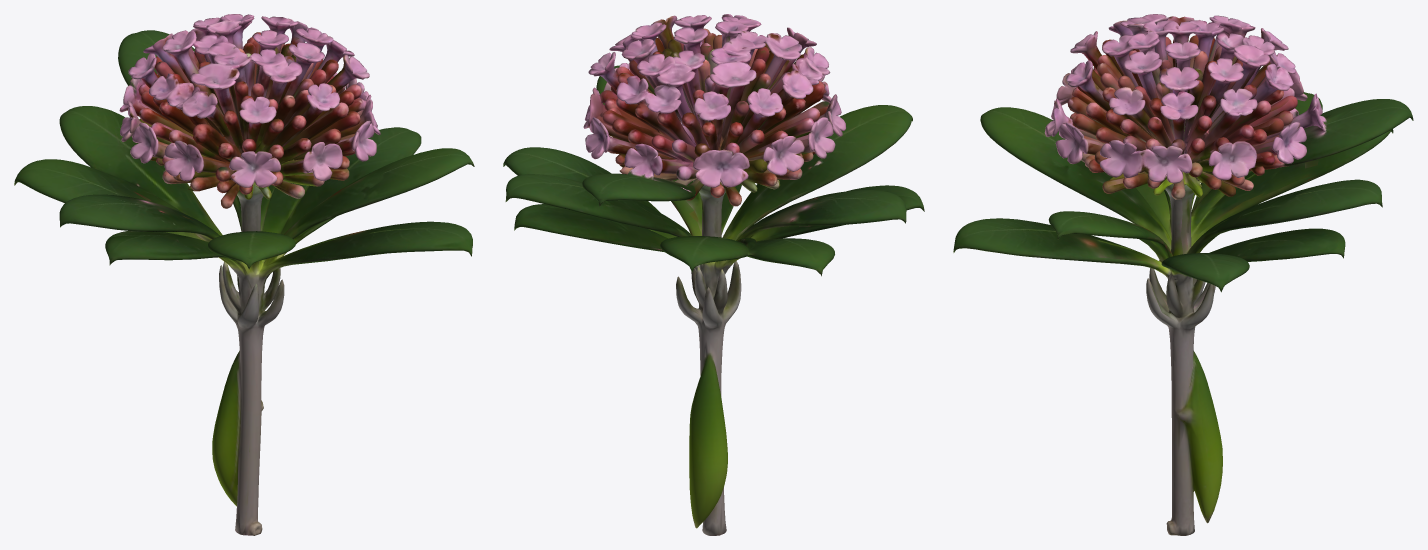
The model's file is ruixiang.glb.
The picture shows the model from 3 angles, left to right: view 1: azimuth 30°, elevation 25°; view 2: azimuth 150°, elevation 25°; view 3: azimuth 270°, elevation 25°; orthographic projection.
Visible parts, largest first — view 1: node_0; view 2: node_0; view 3: node_0.
Part boxes in pixels (x1,y1,x2,y2): node_0: (14,14,474,535); node_0: (503,14,924,535); node_0: (953,14,1413,535).
Size of the model in its own units: 0.9015 by 1.11 by 0.9356.
1 material, 1 textured.
